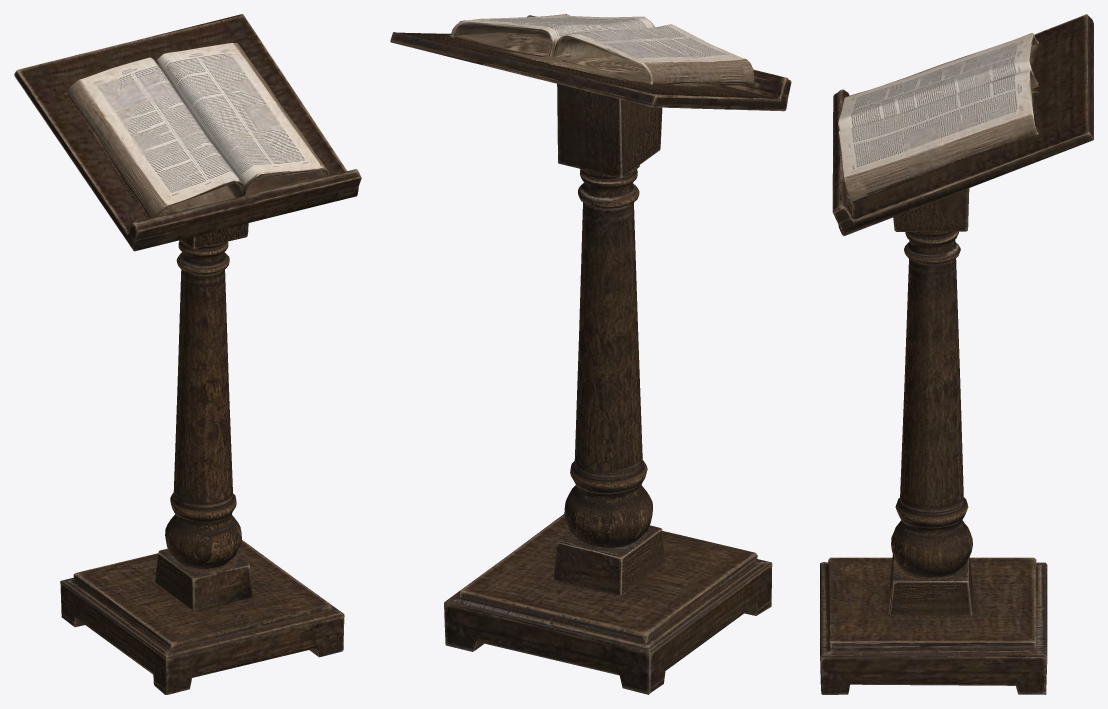
The model's file is chapel_lectern.glb.
3 renders of one model, left to right at view 1: azimuth 30°, elevation 25°; view 2: azimuth 150°, elevation 25°; view 3: azimuth 270°, elevation 25°, orthographic. The views are drawn at different scales.
Size of the model in its own units: 0.5675 by 1.3 by 0.5535.
Materials: 1 (1 with a texture image).
